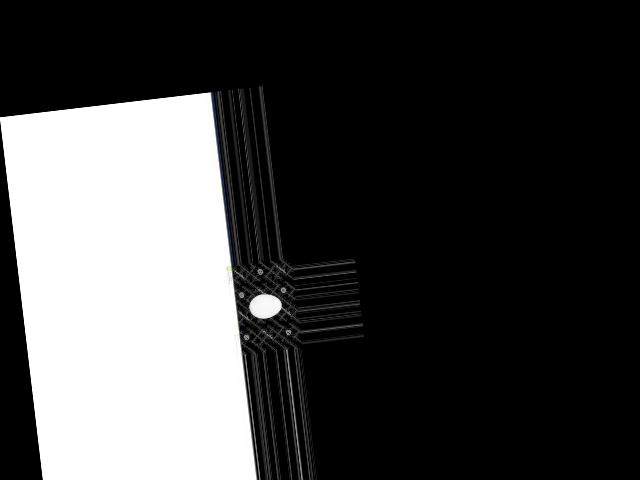egg: (247, 293, 282, 321)
